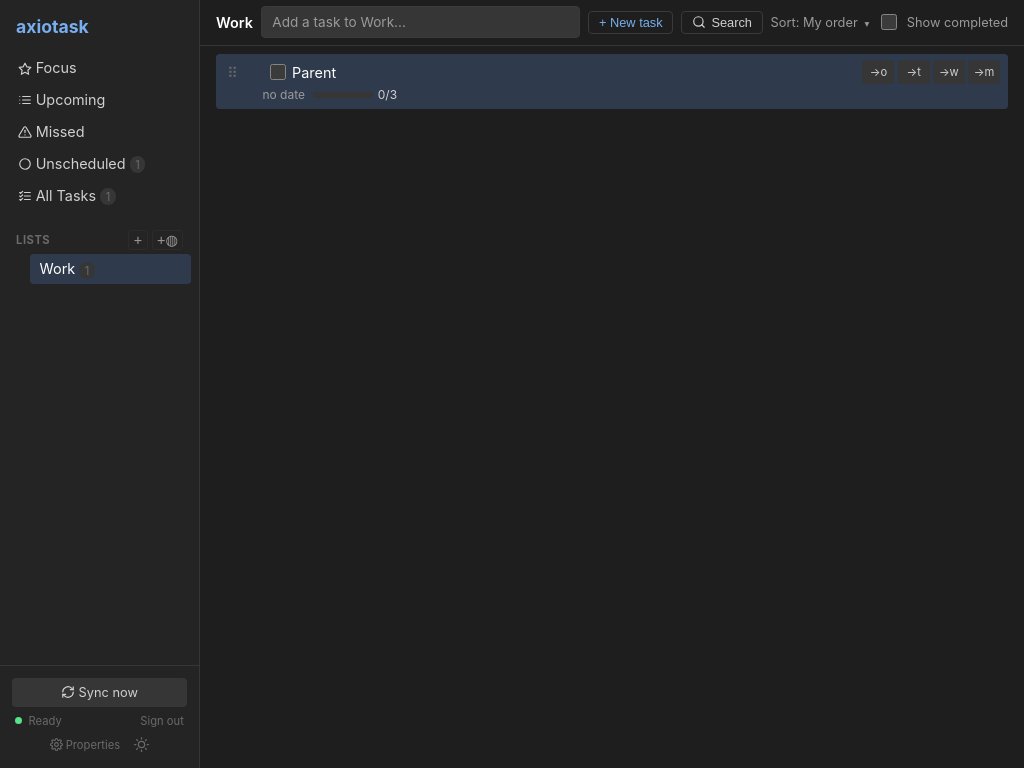
Scenario: Subtask drag-reorder (#90) › dragging a subtask above another reorders it in the panel
The width and height of the screenshot is (1024, 768).
Click the text "Parent" at x=314, y=72, box [292,64,336,81]
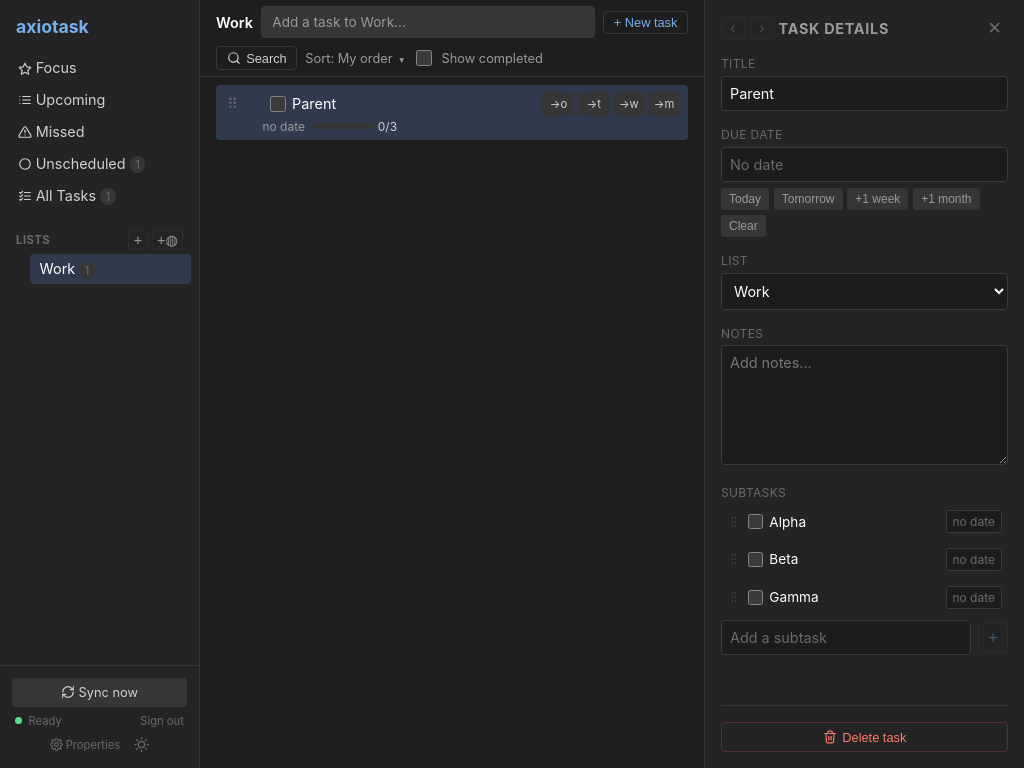
Result: the heading "Task Details" is shown at [779,20,889,36]
